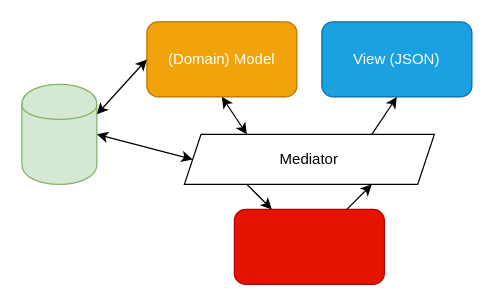
Image size: 494x306. Some labels were removed from this diagram. The box of each missing label's shape, as (x1, y1, x2, y2) in pixels:
Controller: (233, 208, 384, 284)
DB: (21, 83, 97, 184)
